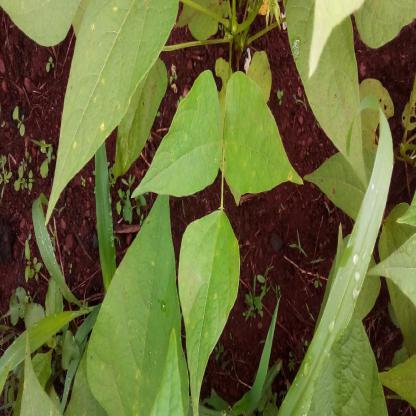Beans_Rust: (41, 0, 173, 218), (78, 189, 180, 416), (179, 209, 243, 416), (216, 79, 309, 200)
